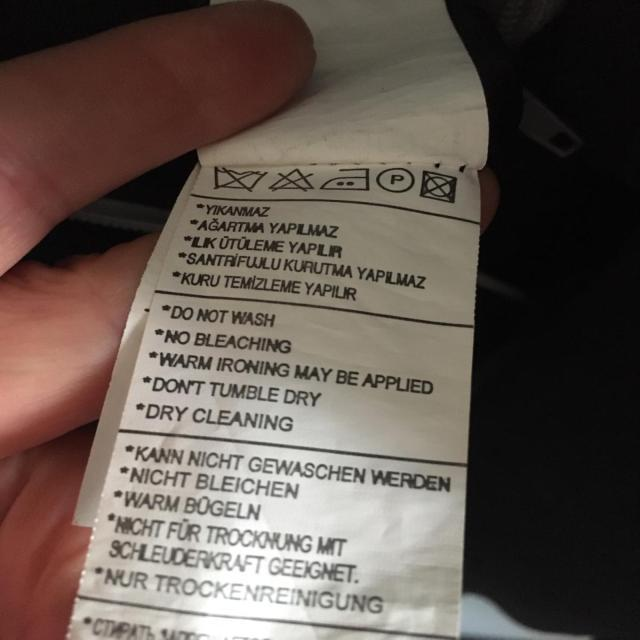DN_bleach: (268, 167, 317, 195)
DN_tumble_dry: (419, 170, 460, 204)
DN_wash: (210, 161, 269, 194)
dry_clean_any_solvent_except_trichloroethylene: (373, 167, 419, 194)
iron_medium: (320, 165, 373, 197)
